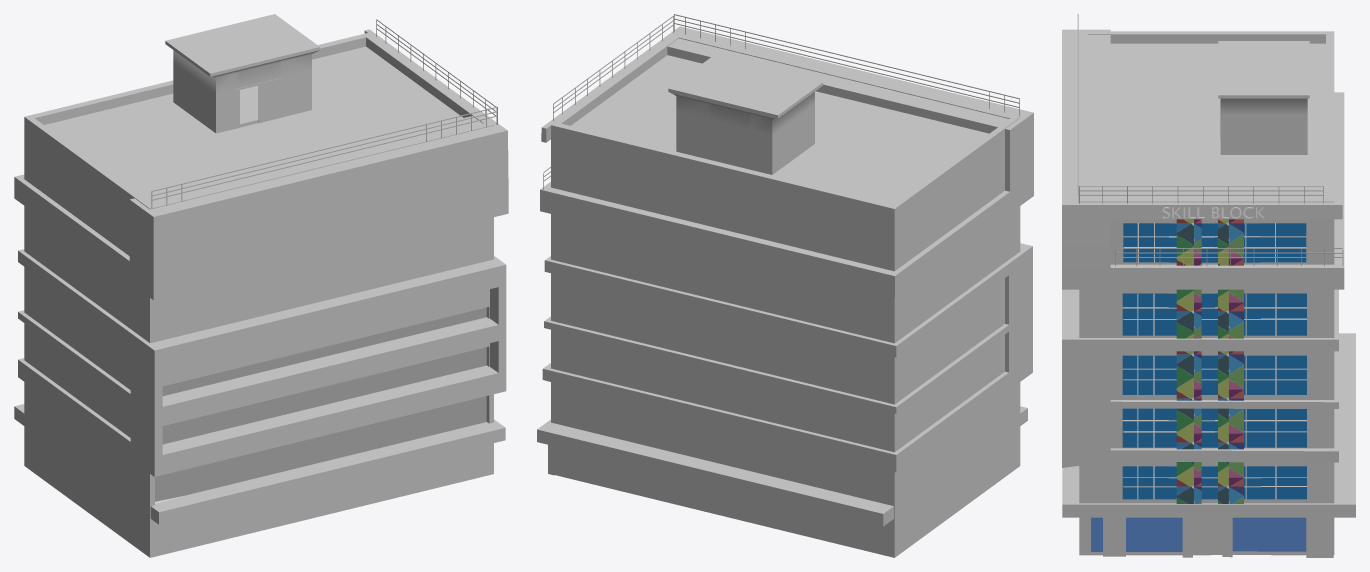
The model's file is Skill block.glb.
3 views of the same model, side by side, from view 1: azimuth 30°, elevation 25°; view 2: azimuth 150°, elevation 25°; view 3: azimuth 270°, elevation 25° (orthographic).
Visible parts, largest first — view 1: polySurface237; view 2: polySurface237; view 3: polySurface237.
Boxes of the visible parts, x1,y1,x2,y2 form: polySurface237: (14,14,508,557); polySurface237: (537,14,1033,557); polySurface237: (1062,14,1355,557).
Bounding box in the file's own units: 19.39 × 21.05 × 13.71.
8 materials, 1 textured.
